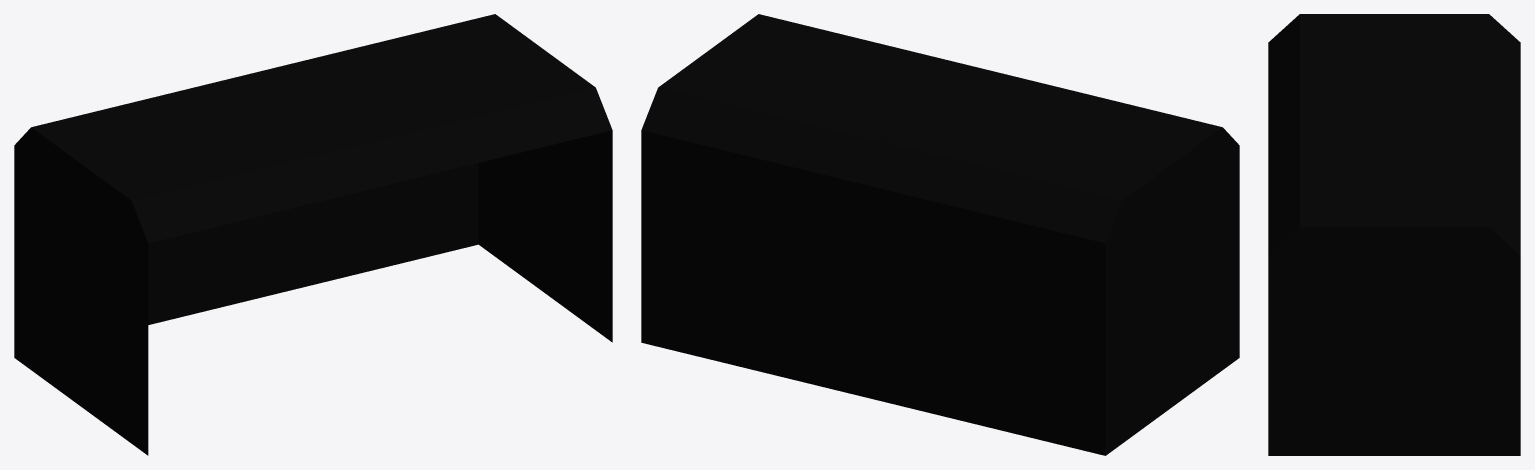
Rendered from Block1.fbx.
The picture shows the model from 3 angles, left to right: view 1: azimuth 30°, elevation 25°; view 2: azimuth 150°, elevation 25°; view 3: azimuth 270°, elevation 25°; orthographic projection. The views are drawn at different scales.
Visible parts, largest first — view 1: Generator; view 2: Generator; view 3: Generator.
Boxes of the visible parts, x1,y1,x2,y2 form: Generator: (14, 14, 612, 455); Generator: (641, 14, 1239, 455); Generator: (1268, 14, 1520, 455).
Bounding box in the file's own units: 400 × 200 × 200.
